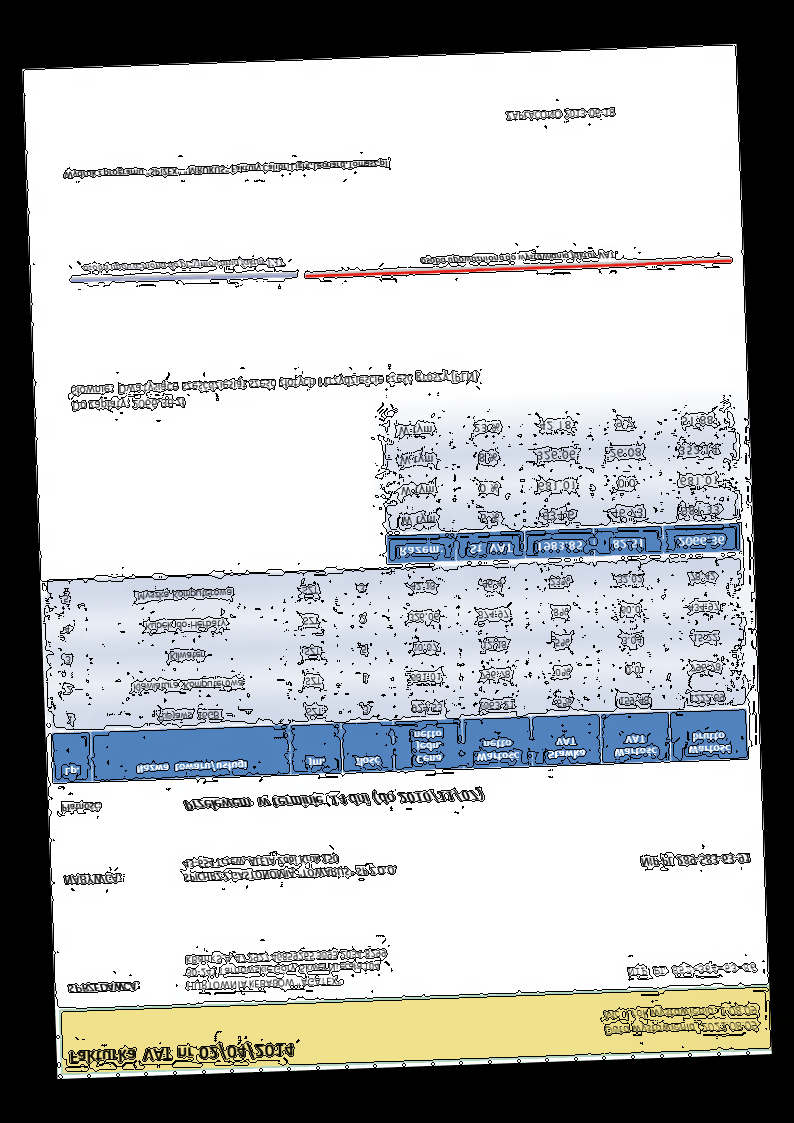Table: (45, 555, 749, 785), (381, 400, 742, 566)
TextBox: (68, 367, 480, 414), (183, 948, 389, 994), (180, 785, 486, 814), (62, 157, 391, 182), (180, 850, 398, 886), (67, 1039, 296, 1067), (602, 1002, 761, 1038), (80, 255, 287, 276), (420, 247, 616, 268), (624, 960, 758, 980), (639, 851, 753, 869), (504, 107, 618, 123), (66, 981, 141, 997), (60, 871, 125, 889), (58, 801, 103, 815)
